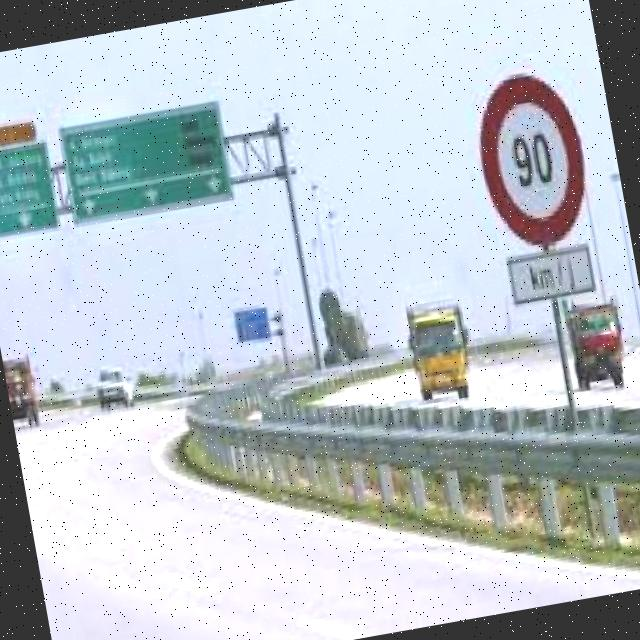Ograniczenie predkosci do 90: (468, 63, 592, 251)
